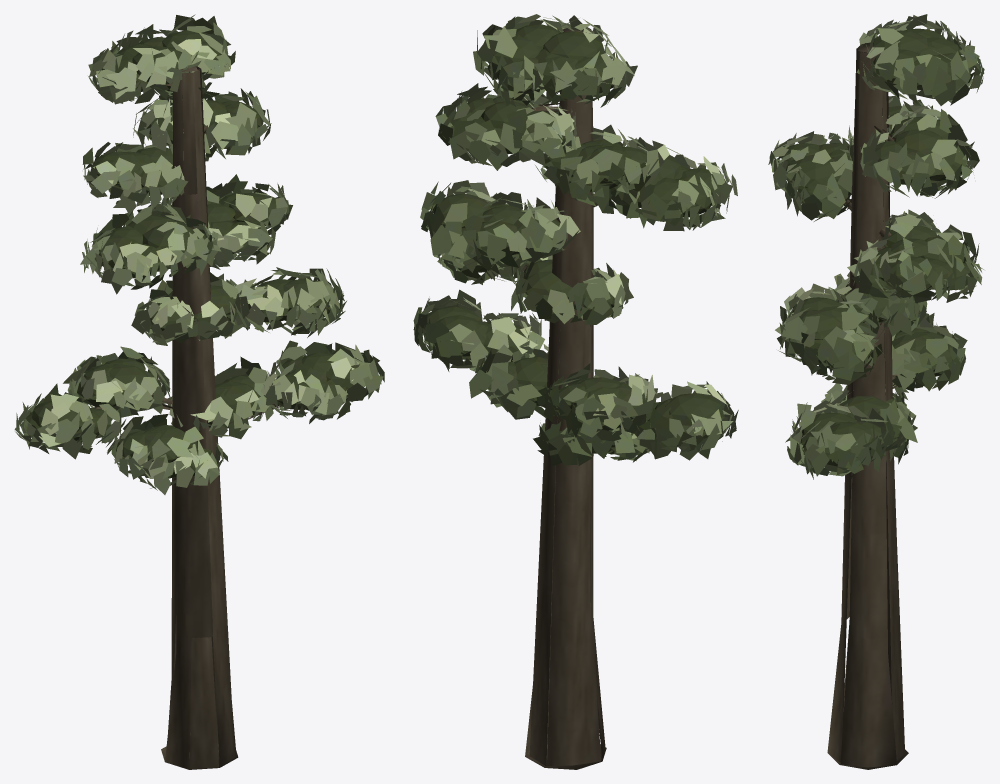
Rendered from tree_tall_b_hd.glb.
The picture shows the model from 3 angles, left to right: view 1: azimuth 30°, elevation 25°; view 2: azimuth 150°, elevation 25°; view 3: azimuth 270°, elevation 25°; orthographic projection. The views are drawn at different scales.
Visible parts, largest first — view 1: tree_tall_b; view 2: tree_tall_b; view 3: tree_tall_b.
Part boxes in pixels (box(x1,y1,x2,y2)): tree_tall_b: box(14, 14, 384, 769); tree_tall_b: box(413, 14, 738, 769); tree_tall_b: box(768, 14, 984, 769).
Size of the model in its own units: 2.23 by 4.52 by 1.24.
1 material, 1 textured.
